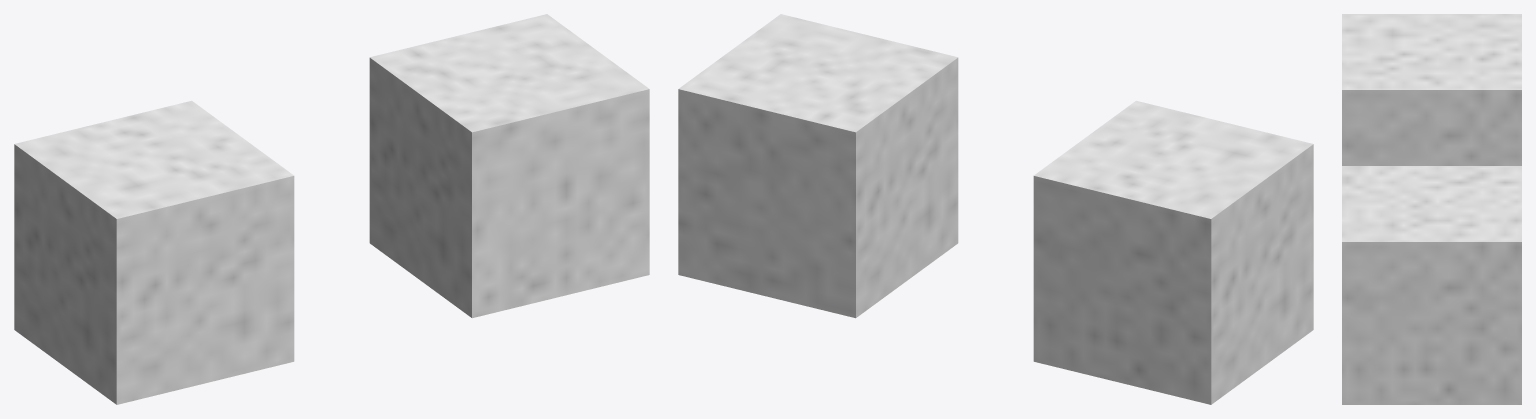
File: tris.obj
The picture shows the model from 3 angles, left to right: view 1: azimuth 30°, elevation 25°; view 2: azimuth 150°, elevation 25°; view 3: azimuth 270°, elevation 25°; orthographic projection. The views are drawn at different scales.
Visible parts, largest first — view 1: slot1; view 2: slot1; view 3: slot1.
Part boxes in pixels (x1,y1,x2,y2): slot1: (14, 14, 649, 404); slot1: (678, 14, 1313, 404); slot1: (1342, 14, 1521, 404).
Bounding box in the file's own units: 3 × 1 × 1.
